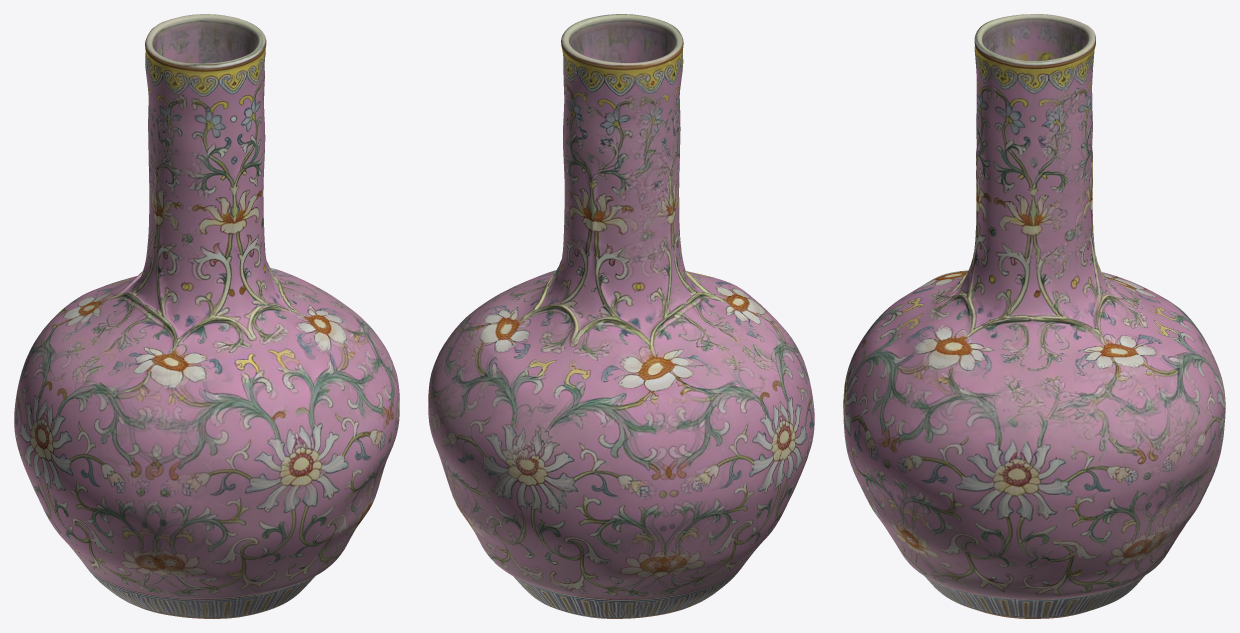
File: 乾隆款粉彩勾莲纹天球瓶.glb
3 views of the same model, side by side, from view 1: azimuth 30°, elevation 25°; view 2: azimuth 150°, elevation 25°; view 3: azimuth 270°, elevation 25° (orthographic).
Parts seen in each view (by area): view 1: tripo_node_1ecc2fc3; view 2: tripo_node_1ecc2fc3; view 3: tripo_node_1ecc2fc3.
Boxes of the visible parts, x1,y1,x2,y2 form: tripo_node_1ecc2fc3: [14, 14, 399, 618]; tripo_node_1ecc2fc3: [428, 14, 814, 618]; tripo_node_1ecc2fc3: [843, 14, 1225, 618].
Bounding box in the file's own units: 62.67 × 98.06 × 62.65.
1 material, 1 textured.
